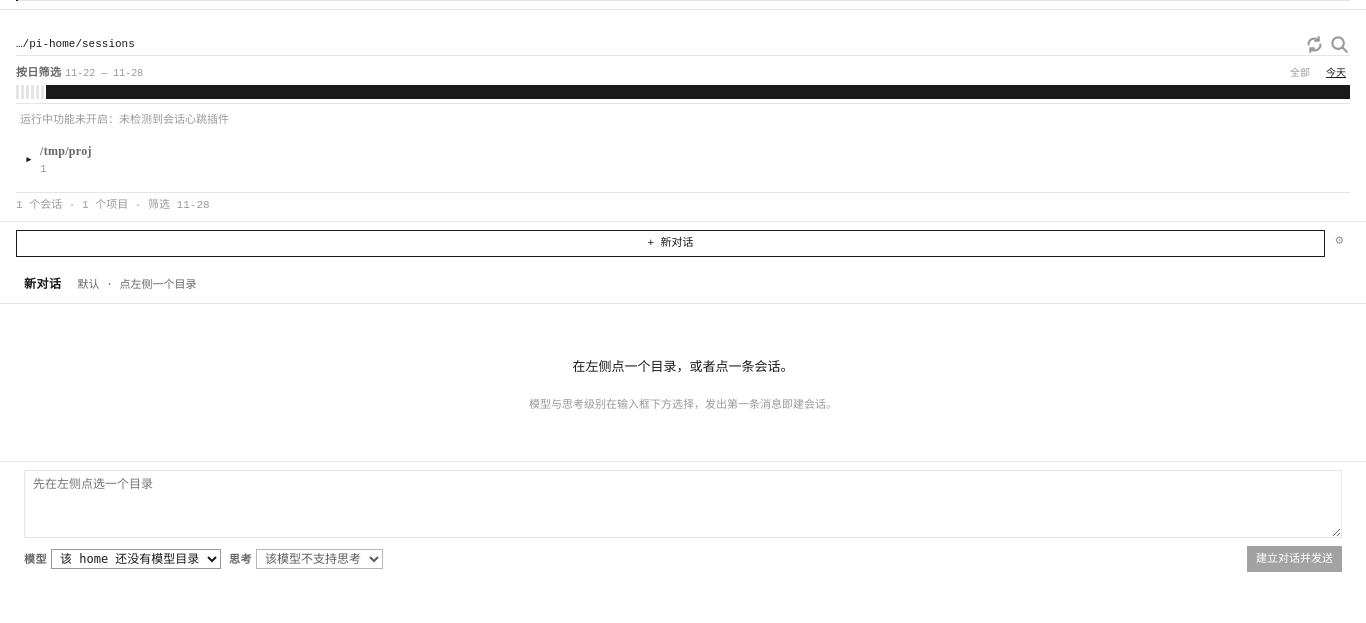
Test case: Pi Web 模块 › 工作区默认是空会话页，点配置进配置页，返回回到空会话页
Expected: the text "新对话" is shown, [24,274,62,292]
Click the button "⚙".
click(1340, 240)  # box [1329,230,1350,251]
(page scrolled)
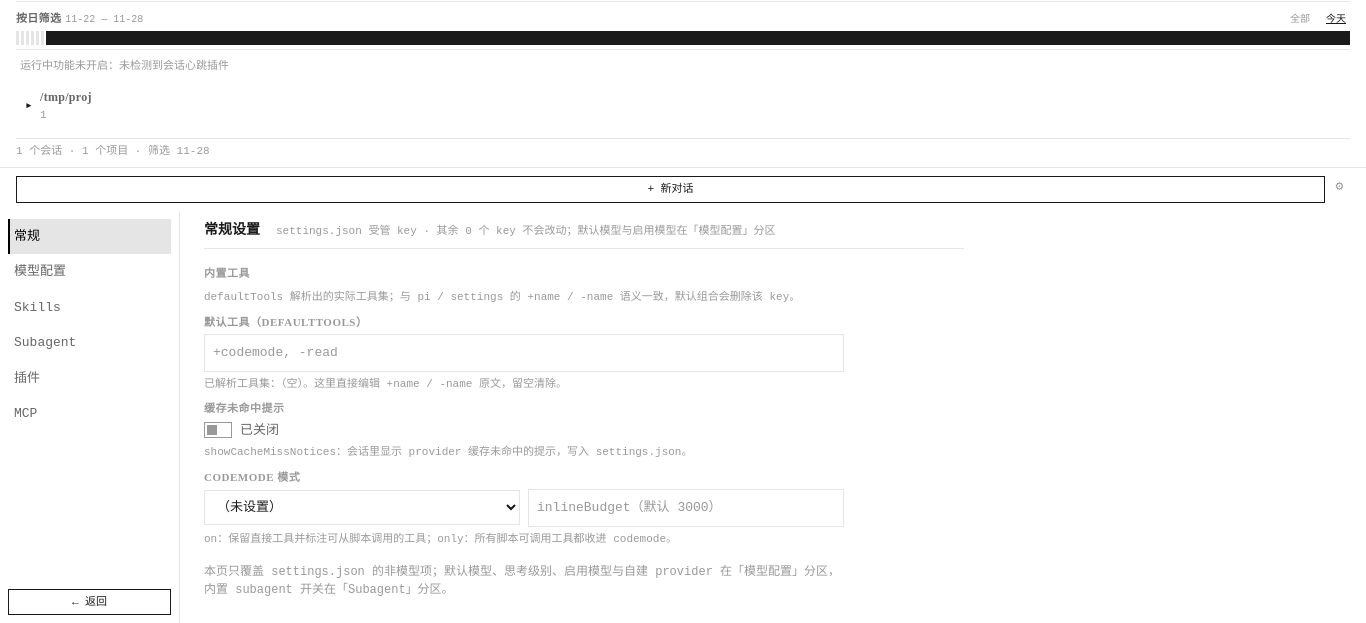
Click the button "← 返回".
click(90, 602)  # box [8,588,171,615]
(page scrolled)
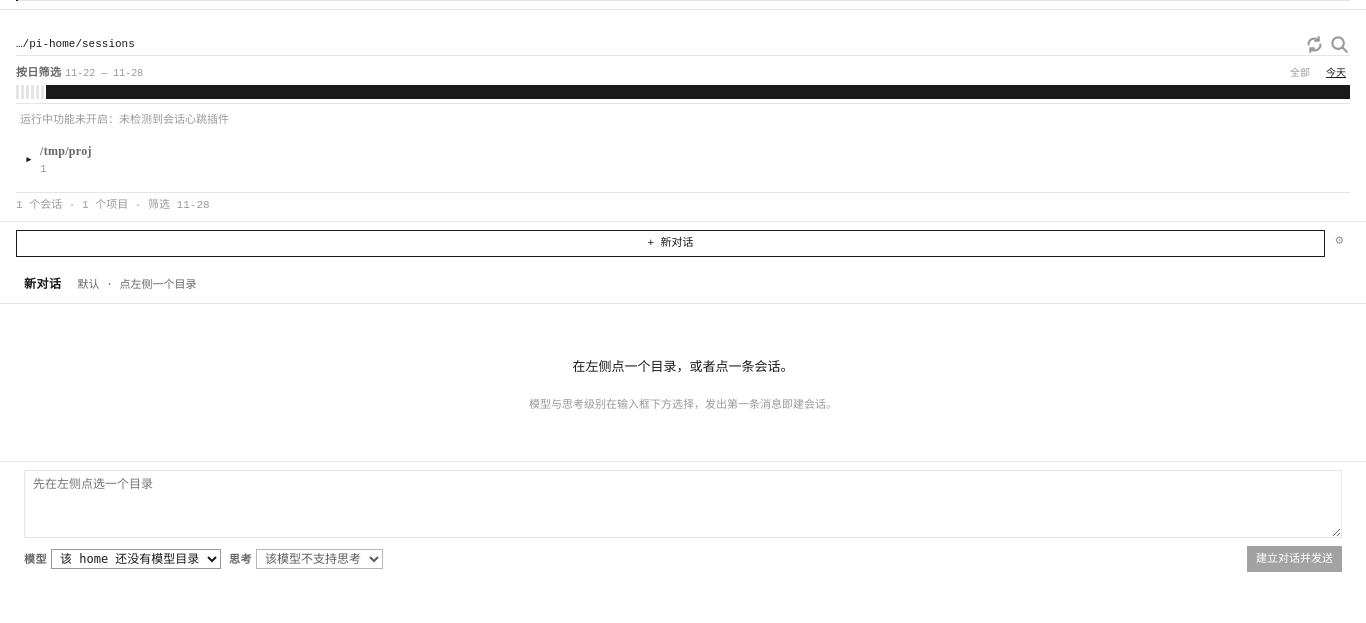
Result: the text "新对话" is shown at [24,274,62,292]
